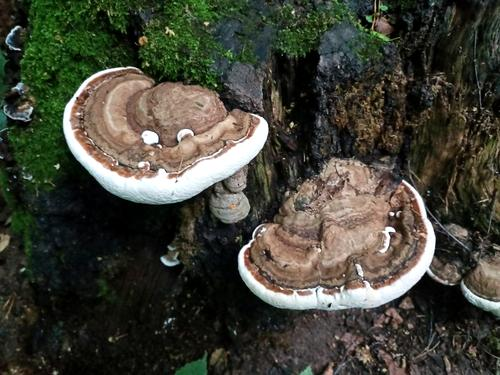Ganoderma - Fruit Body: (64, 63, 269, 207), (275, 157, 436, 313), (461, 239, 500, 319)
